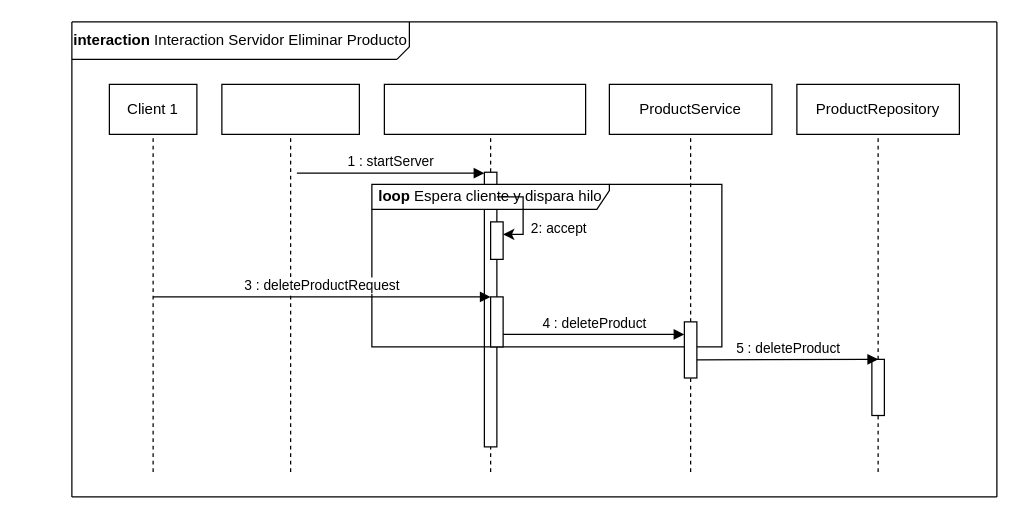
Image size: 1020x520. Some labels were removed from this diagram. The box of each missing label's shape, as (x1, y1, x2, y2) in pixels:
OpenMarketServer: (221, 83, 359, 134)
ServerSocketMultiThread: (383, 83, 586, 134)
